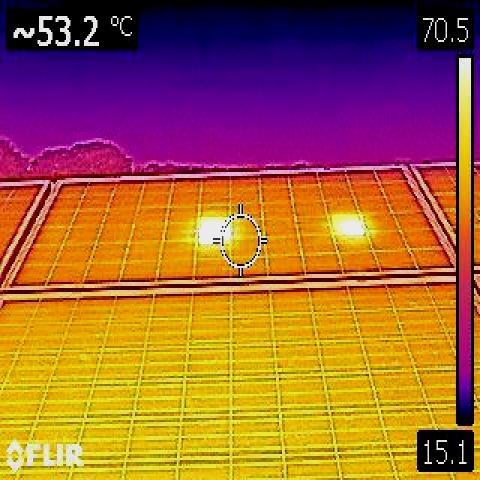fault: (199, 217, 230, 244), (332, 215, 364, 235)
